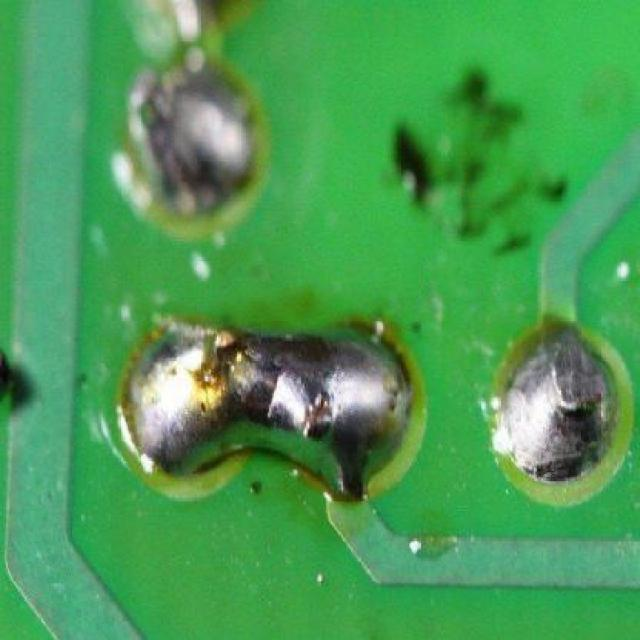Soldering shorted: (118, 314, 411, 508)
